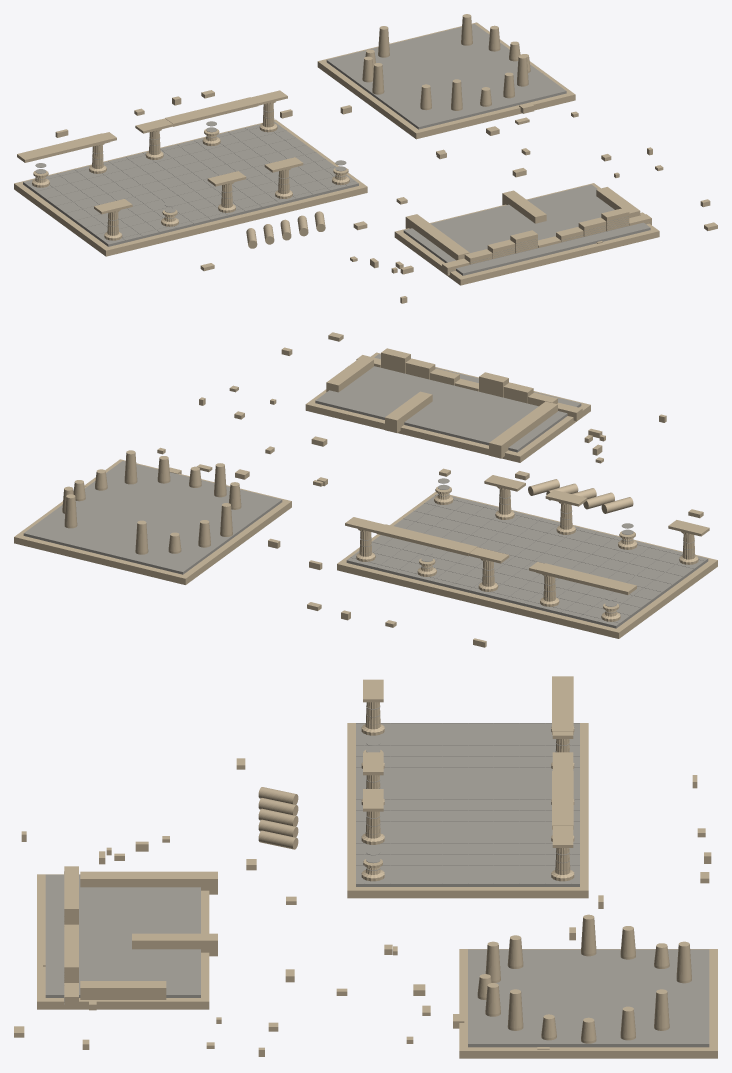
File: top-prebuilt_close.fbx
3 renders of one model, top to bottom at view 1: azimuth 30°, elevation 25°; view 2: azimuth 150°, elevation 25°; view 3: azimuth 270°, elevation 25°, orthographic. The views are drawn at different scales.
Visible parts, largest first — view 1: landmark-ancient_ruins/0/top-prebuilt_close; view 2: landmark-ancient_ruins/0/top-prebuilt_close; view 3: landmark-ancient_ruins/0/top-prebuilt_close.
Boxes of the visible parts, x1,y1,x2,y2 form: landmark-ancient_ruins/0/top-prebuilt_close: (14,14,717,303); landmark-ancient_ruins/0/top-prebuilt_close: (14,332,717,647); landmark-ancient_ruins/0/top-prebuilt_close: (14,676,717,1058).
Bounding box in the file's own units: 90.67 × 6.75 × 81.68.
